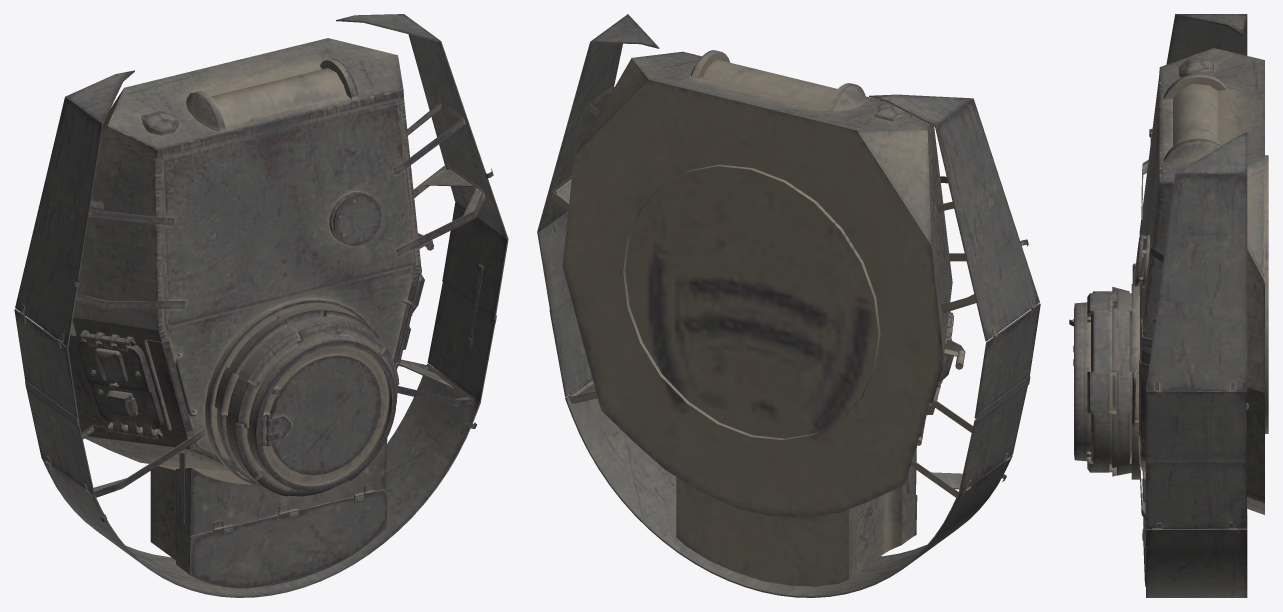
Rendered from Turret_01.glb.
3 renders of one model, left to right at view 1: azimuth 30°, elevation 25°; view 2: azimuth 150°, elevation 25°; view 3: azimuth 270°, elevation 25°, orthographic. The views are drawn at different scales.
Parts seen in each view (by area): view 1: set_0_group_0; view 2: set_0_group_0; view 3: set_0_group_0.
Part boxes in pixels (x1,y1,x2,y2): set_0_group_0: (14,14,508,597); set_0_group_0: (537,14,1040,597); set_0_group_0: (1069,14,1268,597).
Bounding box in the file's own units: 2.48 × 2.72 × 0.9966.
1 material, 1 textured.
